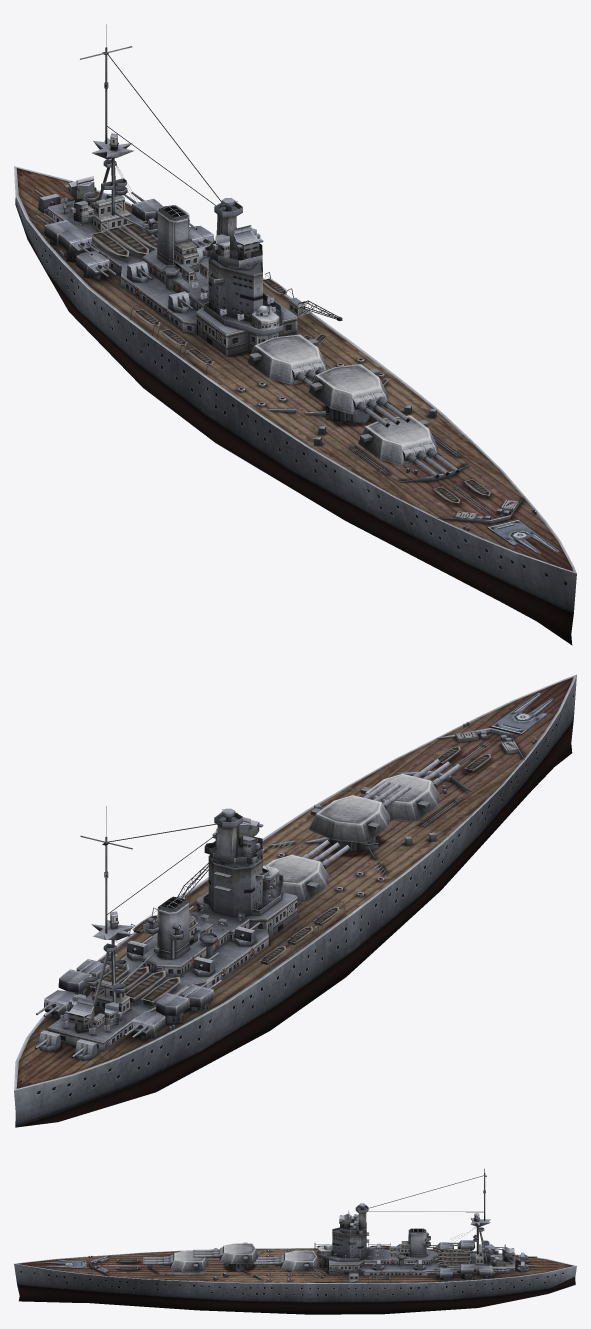
File: Nelson.fbx
The picture shows the model from 3 angles, top to bottom: view 1: azimuth 30°, elevation 25°; view 2: azimuth 150°, elevation 25°; view 3: azimuth 270°, elevation 25°; orthographic projection. The views are drawn at different scales.
Visible parts, largest first — view 1: Body, M_Cannon02, M_Cannon03, M_Cannon01; view 2: Body, M_Cannon02, M_Cannon01, M_Cannon03, S_Cannon02, S_Cannon03; view 3: Body, M_Cannon03, M_Cannon02, M_Cannon01.
Boxes of the visible parts, x1,y1,x2,y2 form: Body: (14, 24, 576, 645); M_Cannon02: (308, 364, 388, 414); M_Cannon03: (247, 334, 327, 384); M_Cannon01: (358, 415, 438, 465); Body: (14, 674, 576, 1127); M_Cannon02: (309, 795, 390, 843); M_Cannon01: (360, 773, 439, 822); M_Cannon03: (265, 854, 329, 903); S_Cannon02: (131, 1011, 165, 1036); S_Cannon03: (155, 993, 189, 1016); Body: (14, 1168, 576, 1314); M_Cannon03: (280, 1250, 319, 1271); M_Cannon02: (219, 1242, 257, 1263); M_Cannon01: (170, 1250, 208, 1271).
Size of the model in its own units: 32.6 by 62.74 by 216.
1 material, 1 textured.
